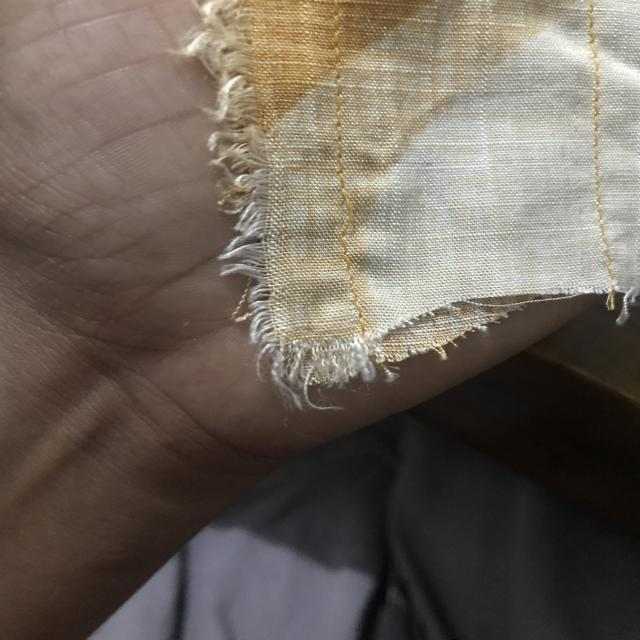skip: (324, 182, 370, 253)
